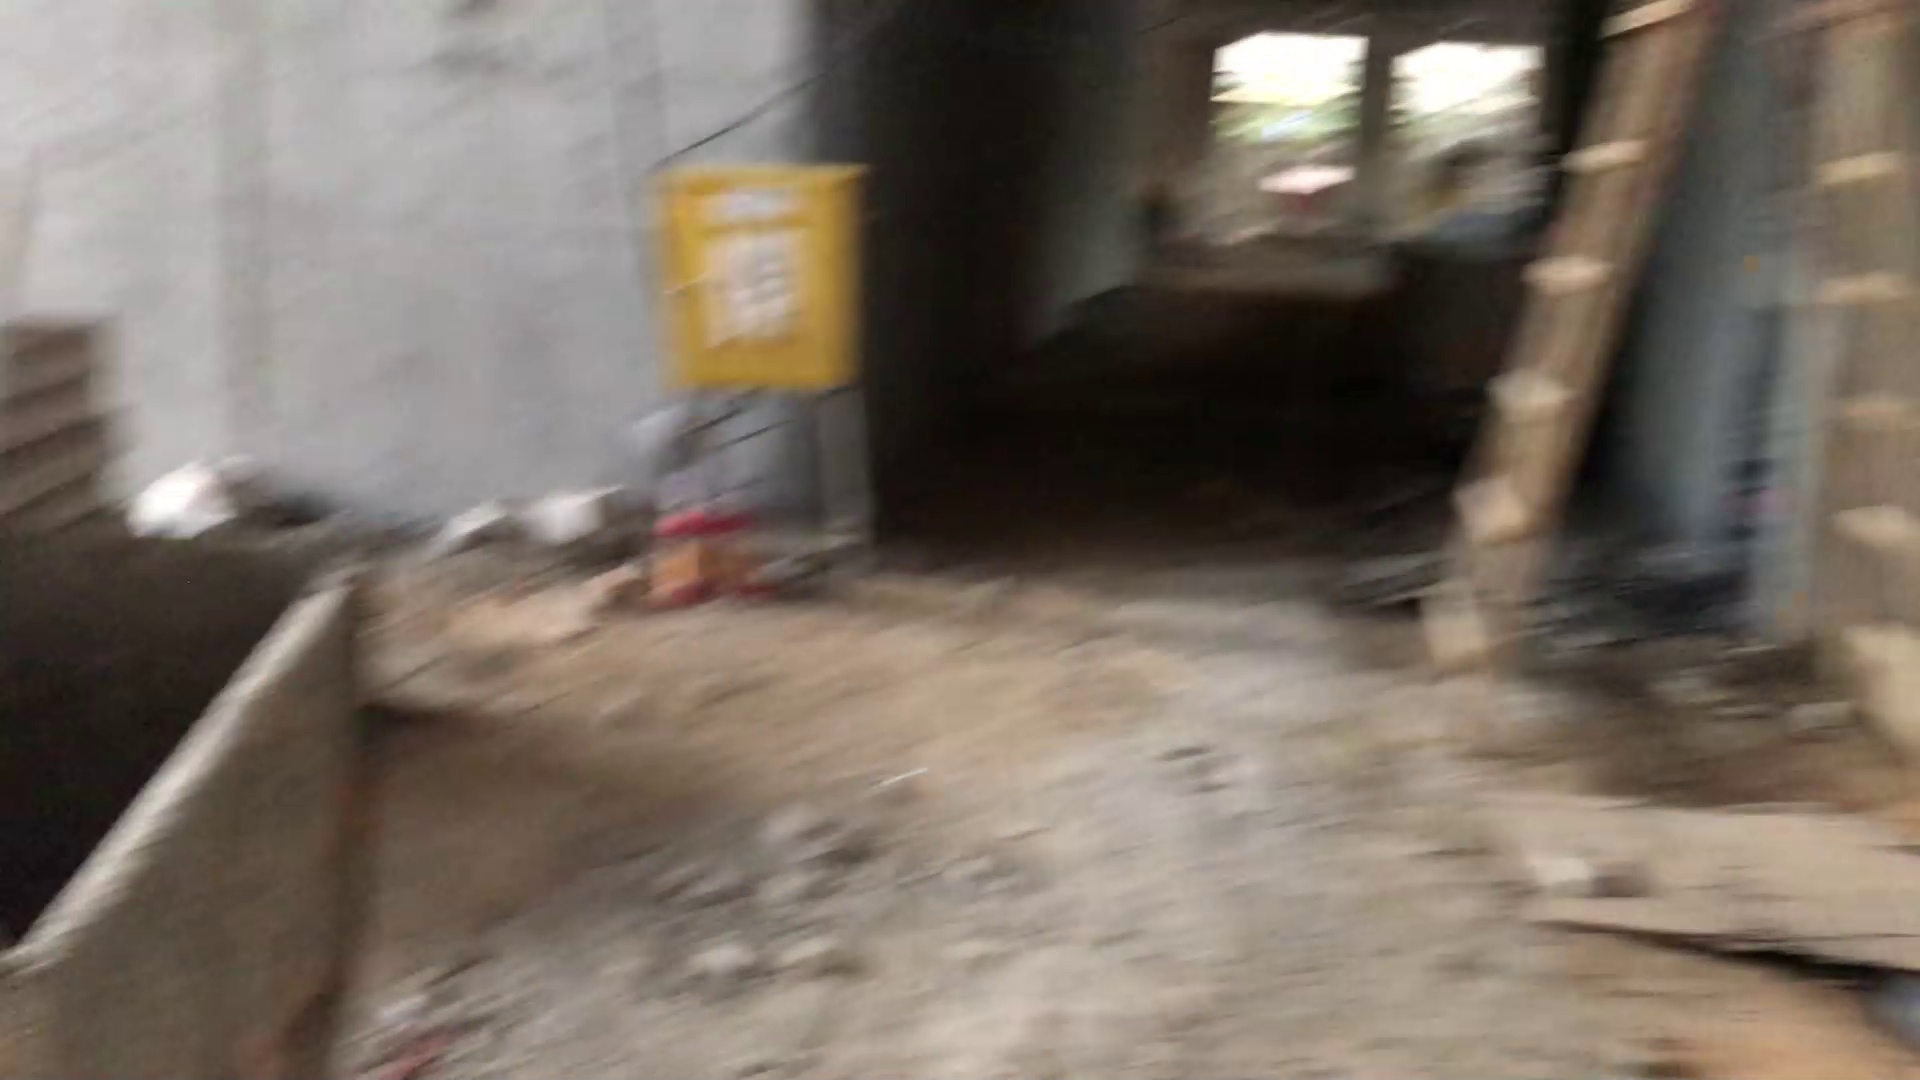ebox: (644, 131, 913, 411)
